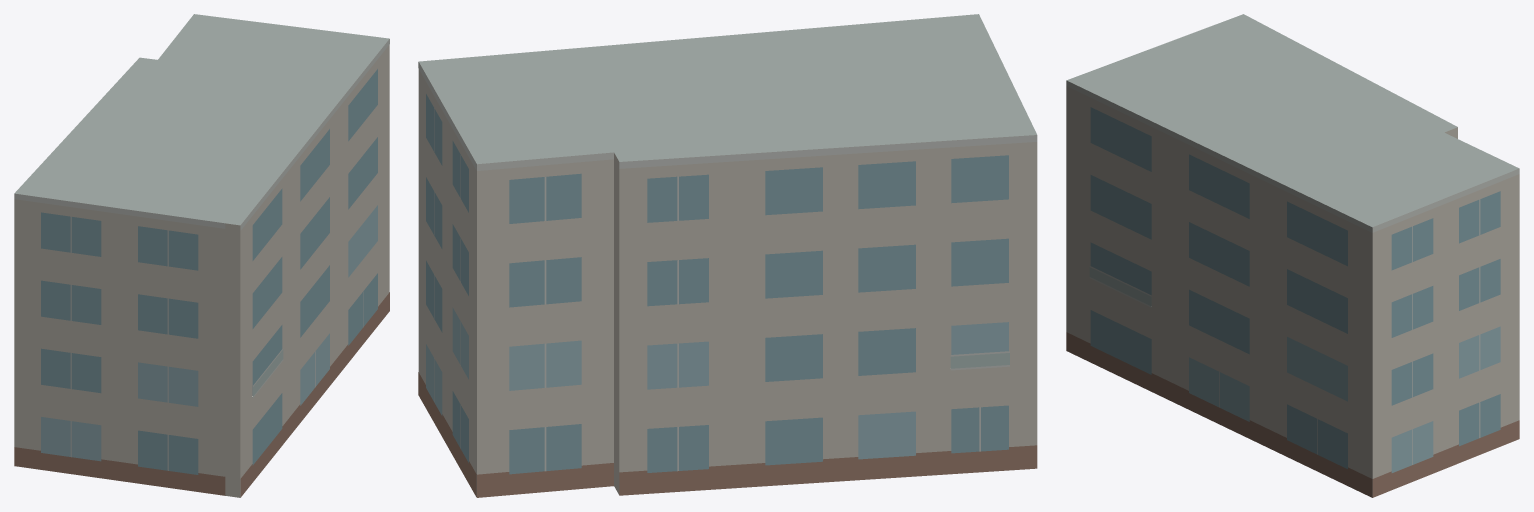
The model's file is survey-upis-32836611.glb.
The picture shows the model from 3 angles, left to right: view 1: azimuth 30°, elevation 25°; view 2: azimuth 150°, elevation 25°; view 3: azimuth 270°, elevation 25°; orthographic projection. The views are drawn at different scales.
Visible parts, largest first — view 1: survey-upis-32836611.tmp; view 2: survey-upis-32836611.tmp; view 3: survey-upis-32836611.tmp.
Boxes of the visible parts, box(x1,y1,x2,y2) form: survey-upis-32836611.tmp: box(14, 14, 389, 497); survey-upis-32836611.tmp: box(418, 14, 1037, 497); survey-upis-32836611.tmp: box(1066, 14, 1519, 497).
Size of the model in its own units: 19.97 by 11.8 by 17.92.
